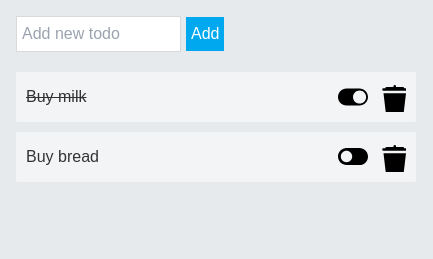
Scenario: TodoApp › Todo App with initial data › adds a new todo item
Type "Go to the park" into the field with test id "add-todo-input" at point(98, 34), box [16,16,181,52]
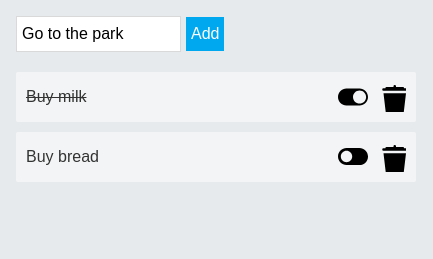
Click the button with test id "add-todo-button" at point(205, 34), box [186,17,224,51]
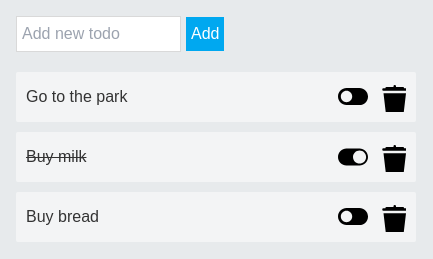
Check: the text "Go to the park" is shown, box [26,85,127,109]
